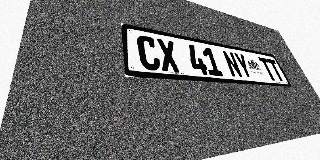1: (200, 46, 223, 76)
4: (185, 44, 209, 75)
C: (136, 34, 162, 71)
N: (222, 50, 244, 78)
T: (258, 57, 278, 81), (266, 59, 286, 82)
X: (156, 38, 181, 73)
Y: (233, 52, 254, 79)
